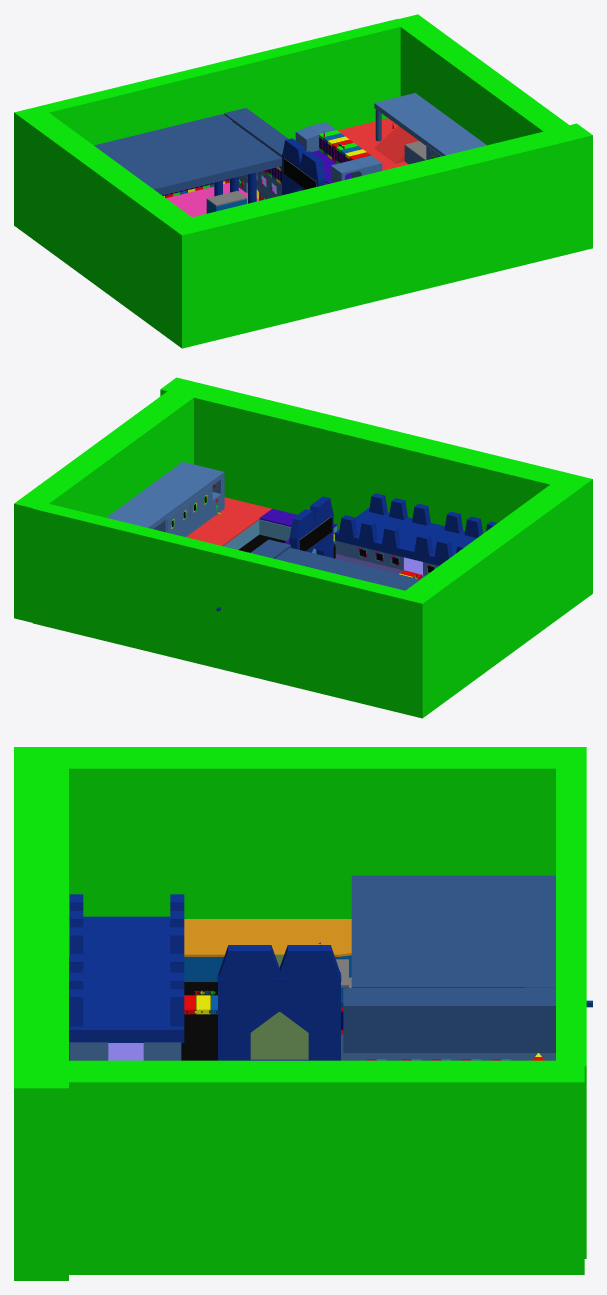
Rendered from mapfile.glb.
3 renders of one model, top to bottom at view 1: azimuth 30°, elevation 25°; view 2: azimuth 150°, elevation 25°; view 3: azimuth 270°, elevation 25°, orthographic. The views are drawn at different scales.
Visible parts, largest first — view 1: Part (×10), Union, Baseplate, Wedge; view 2: Part (×14), Union; view 3: Part (×14), Union, Baseplate.
Boxes of the visible parts, box(x1,y1,x2,y2) form: Part (×10): box(14, 14, 592, 348); Union: box(282, 138, 325, 195); Baseplate: box(166, 182, 258, 217); Wedge: box(374, 126, 418, 163); Part (×14): box(14, 377, 592, 718); Union: box(289, 496, 333, 557); Part (×14): box(14, 747, 586, 1280); Union: box(217, 945, 341, 1060); Baseplate: box(69, 982, 217, 1060).
Bounding box in the file's own units: 16.44 × 4.39 × 11.79.
